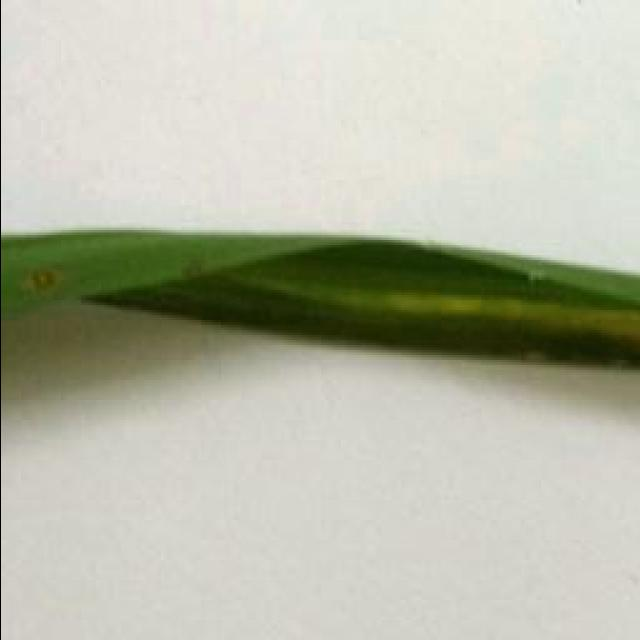Unhealthy: (339, 289, 640, 337), (27, 265, 63, 294)
